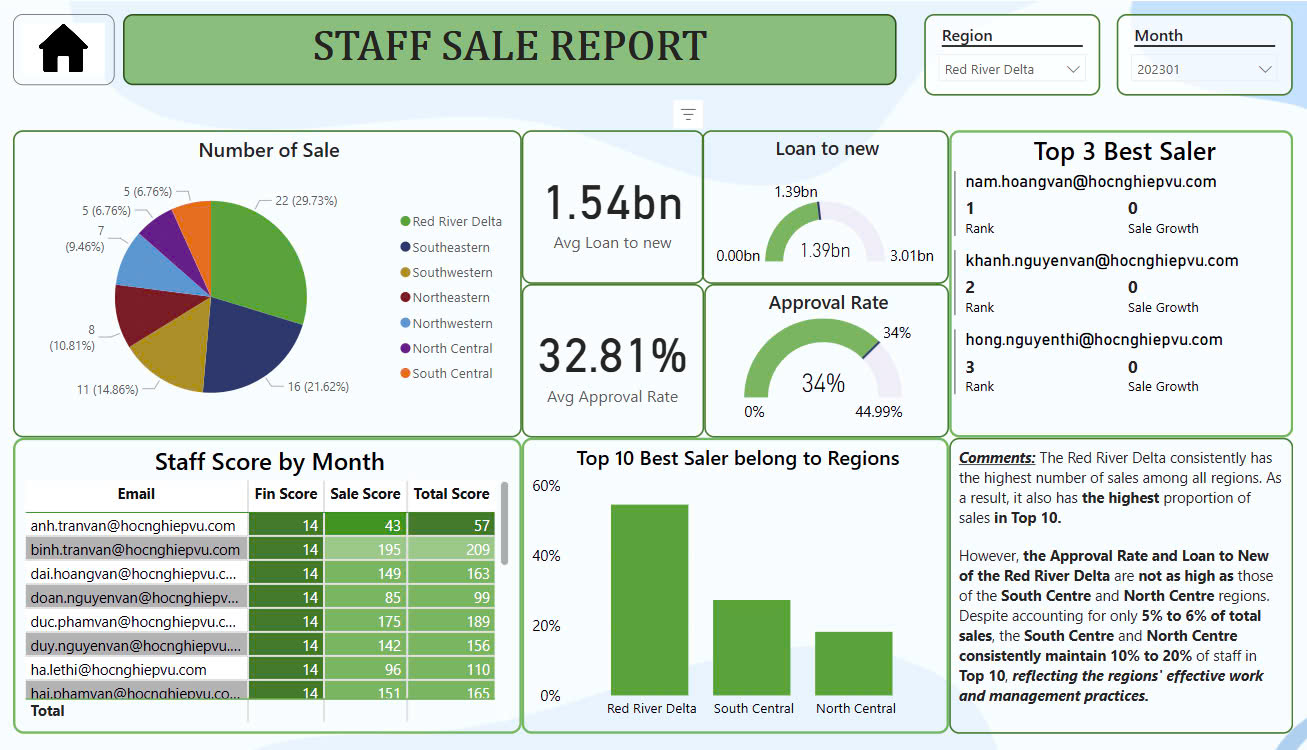

The dashboard page shown, as its layout file describes it:
{"tool":"powerbi","page":{"name":"SALE CHART","canvas":[1280,720],"ordinal":7},"visuals":[{"type":"slicer","fields":{"Values":["BANK report_asm.monthkey"]},"box":[1104.3,0,175.7,81.4],"z":0},{"type":"tableEx","title":"Staff Score by Month","fields":{"Values":["BANK report_asm.email","BANK report_asm.Fin Score","BANK report_asm.Sale Score","BANK report_asm.Total Score"]},"box":[0,423.8,508.8,296.2],"z":1000},{"type":"multiRowCard","title":"Top 3 Best Saler","fields":{"Values":["BANK report_asm.email","BANK report_asm.rank_final","Sum(BANK report_asm.Rank Change 2)"]},"box":[936.2,116.2,343.8,307.5],"z":2000},{"type":"columnChart","title":"Top 10 Best Saler belong to Regions","fields":{"Y":["Divide(Count(BANK report_asm.email), ScopedEval(Count(BANK report_asm.email), []))"],"Category":["BANK report_asm.English_Region"]},"box":[508.8,423.8,427.5,296.2],"z":3000},{"type":"gauge","title":"Loan to new","fields":{"Y":["Avg(BANK report_asm.ltn_avg)"],"MaxValue":["Avg(BANK report_asm.Avg_LTN_Top_5_By_Month)"],"TargetValue":["Avg(BANK report_asm.Avg_LTN_By_Month)"]},"box":[688.8,116.2,247.5,153.8],"z":4000},{"type":"card","fields":{"Values":["Avg(BANK report_asm.ltn_avg)"]},"box":[508.8,116.2,182.5,153.8],"z":5000},{"type":"slicer","fields":{"Values":["BANK report_asm.English_Region"]},"box":[911.2,0,176.2,81.2],"z":6000},{"type":"textbox","box":[110,0,773.8,71.2],"z":7000},{"type":"card","fields":{"Values":["Avg(BANK report_asm.approval_rate_avg)"]},"box":[508.8,270,182.5,153.8],"z":8000},{"type":"gauge","title":"Approval Rate","fields":{"TargetValue":["Avg(BANK report_asm.Avg_APP_By_Month)"],"MaxValue":["Avg(BANK report_asm.Avg_APP_Top_5_By_Month)"],"Y":["Avg(BANK report_asm.approval_rate_avg)"]},"box":[691.2,270,245,153.8],"z":9000},{"type":"pieChart","title":"Number of Sale","fields":{"Category":["BANK report_asm.English_Region"],"Y":["CountNonNull(BANK report_asm.email)"]},"box":[0,116.2,508.8,307.5],"z":10000},{"type":"textbox","box":[936.2,423.8,343.8,296.2],"z":11000},{"type":"image","box":[0,0,101.2,71.2],"z":12000}]}

Visuals, with their boxes in screenshot pixels (x1, y1, x2, y2), scaled from the page's 1280x720 canvas onto the 1307x750 screenshot:
slicer - BANK report_asm.monthkey: pyautogui.locateOnScreen(1128, 0, 1306, 85)
"Staff Score by Month" tableEx: pyautogui.locateOnScreen(0, 441, 520, 749)
"Top 3 Best Saler" multiRowCard: pyautogui.locateOnScreen(956, 121, 1306, 441)
"Top 10 Best Saler belong to Regions" columnChart: pyautogui.locateOnScreen(520, 441, 956, 749)
"Loan to new" gauge: pyautogui.locateOnScreen(703, 121, 956, 281)
card - Avg(BANK report_asm.ltn_avg): pyautogui.locateOnScreen(520, 121, 706, 281)
slicer - BANK report_asm.English_Region: pyautogui.locateOnScreen(930, 0, 1110, 85)
textbox: pyautogui.locateOnScreen(112, 0, 902, 74)
card - Avg(BANK report_asm.approval_rate_avg): pyautogui.locateOnScreen(520, 281, 706, 441)
"Approval Rate" gauge: pyautogui.locateOnScreen(706, 281, 956, 441)
"Number of Sale" pieChart: pyautogui.locateOnScreen(0, 121, 520, 441)
textbox: pyautogui.locateOnScreen(956, 441, 1306, 749)
image: pyautogui.locateOnScreen(0, 0, 103, 74)
